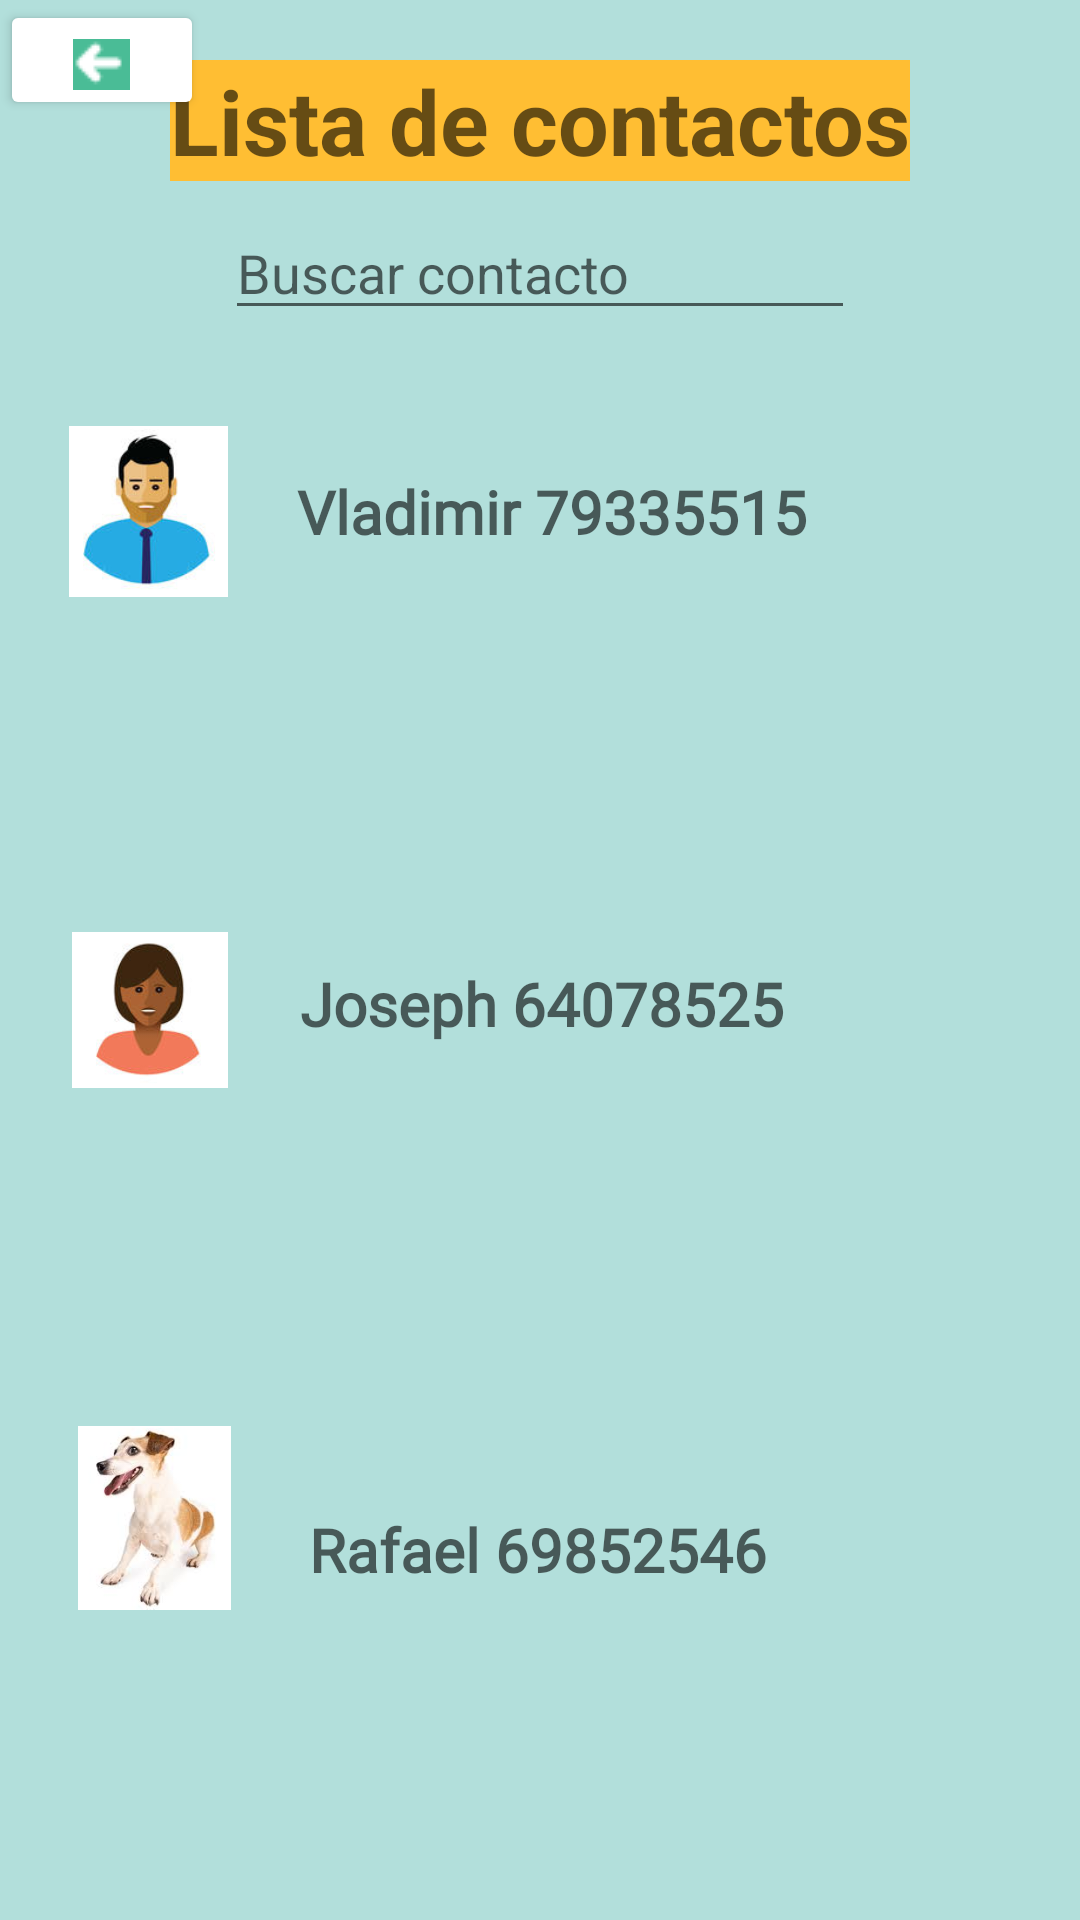

Icon bounding boxes for this 1080 x 1920 phone screenshot, format bbox=(x1, y1, x2, y2):
foto1: bbox=(69, 426, 228, 597)
foto2: bbox=(72, 932, 228, 1088)
foto3: bbox=(78, 1426, 231, 1610)
